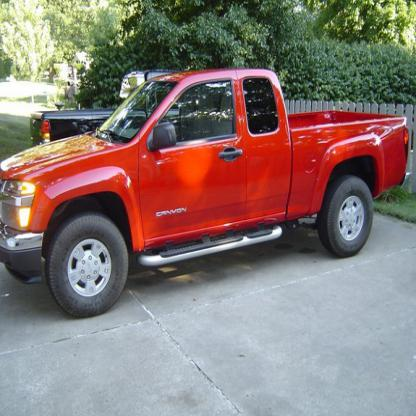Vehicle: (2, 70, 410, 320)
